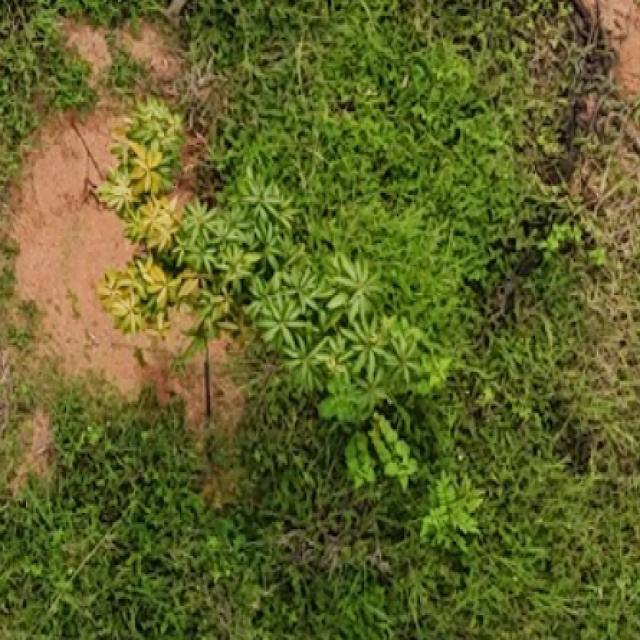mangoTree: (94, 100, 430, 419)
notMangoTree: (425, 482, 489, 558)
